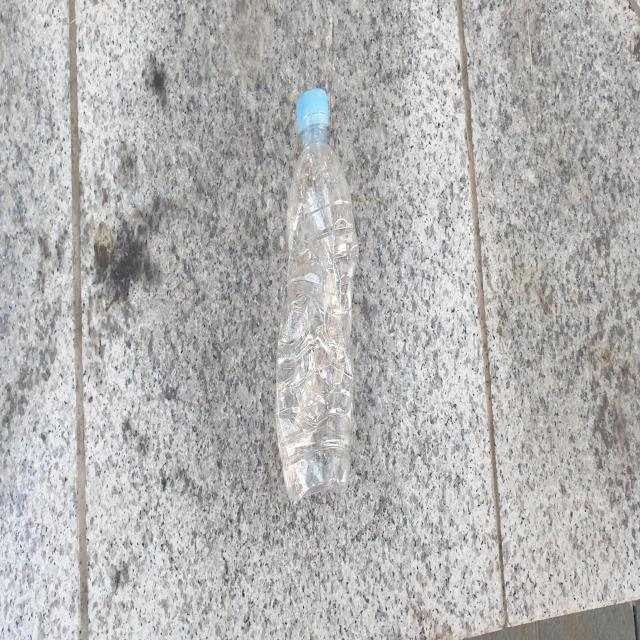plastic: (276, 87, 358, 499)
